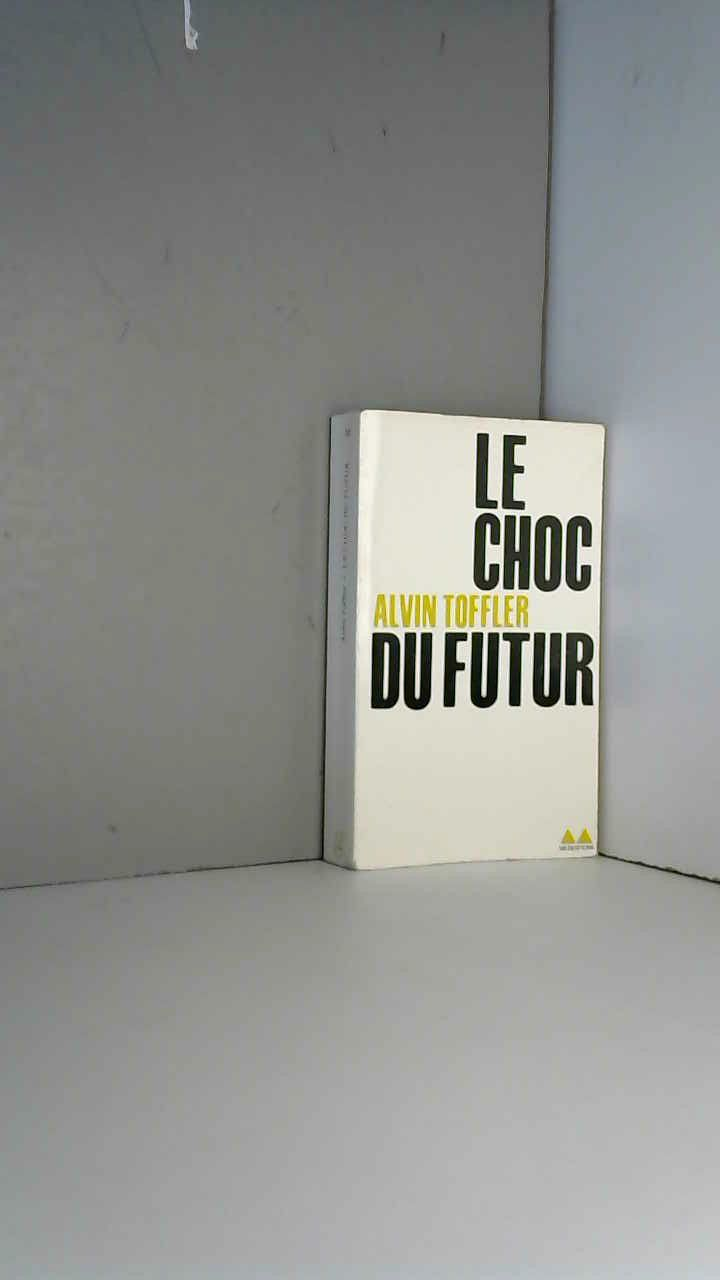book: (290, 380, 717, 899)
